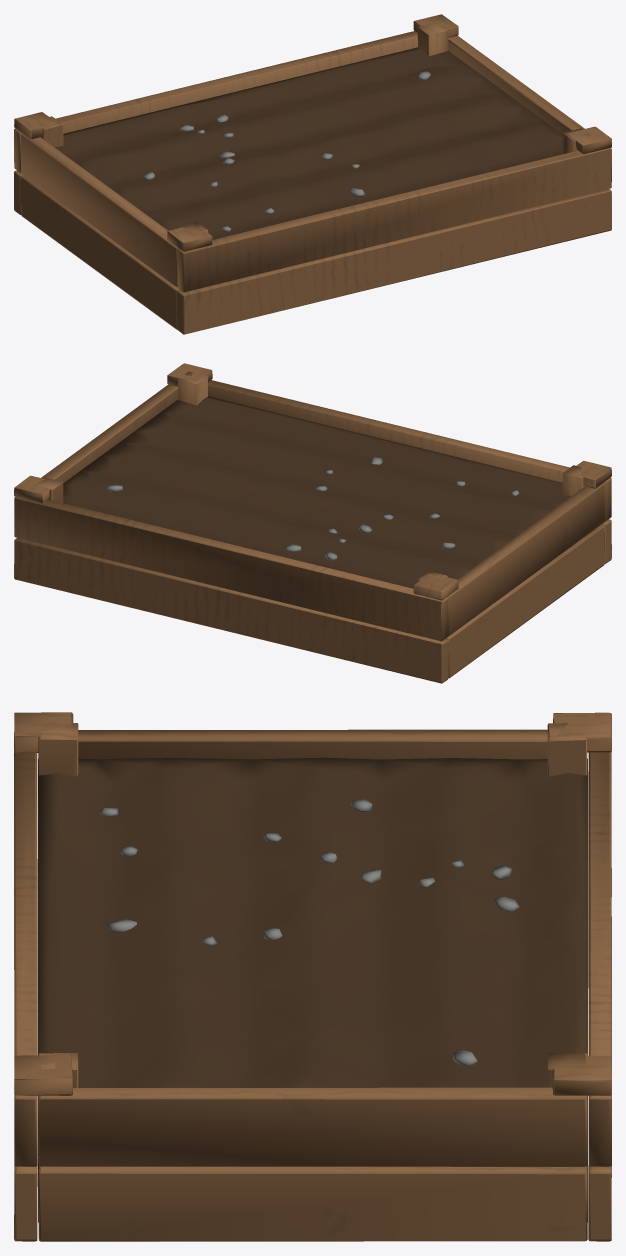
The model's file is Huerta.fbx.
3 views of the same model, one above another, from view 1: azimuth 30°, elevation 25°; view 2: azimuth 150°, elevation 25°; view 3: azimuth 270°, elevation 25° (orthographic). The views are drawn at different scales.
Visible parts, largest first — view 1: Tierra; view 2: Tierra; view 3: Tierra.
Boxes of the visible parts, x1=… form: Tierra: x1=14, y1=14, x2=611, y2=334; Tierra: x1=14, y1=363, x2=611, y2=683; Tierra: x1=14, y1=712, x2=611, y2=1241.
Size of the model in its own units: 160 by 33.1 by 110.
3 materials, 3 textured.
